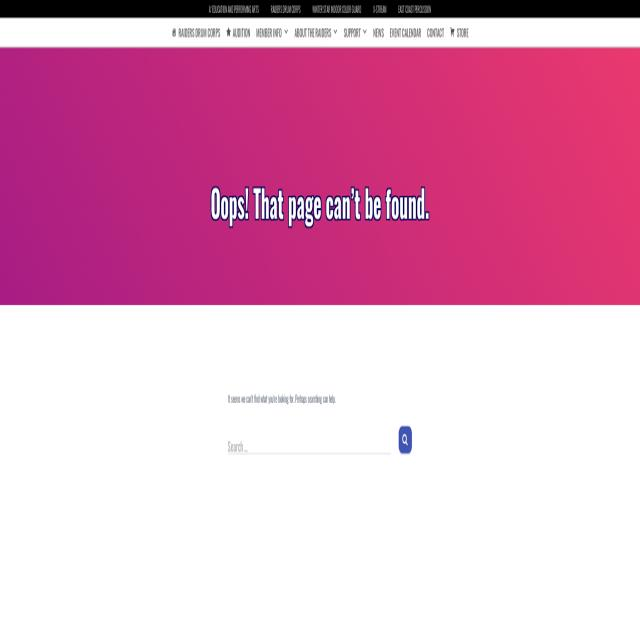button: (169, 21, 223, 44), (291, 21, 341, 44), (252, 20, 292, 45), (387, 21, 424, 44), (223, 21, 253, 44), (341, 21, 370, 44), (424, 21, 448, 44), (448, 21, 472, 44), (398, 426, 412, 454), (371, 21, 387, 44)
field: (228, 432, 390, 455)
